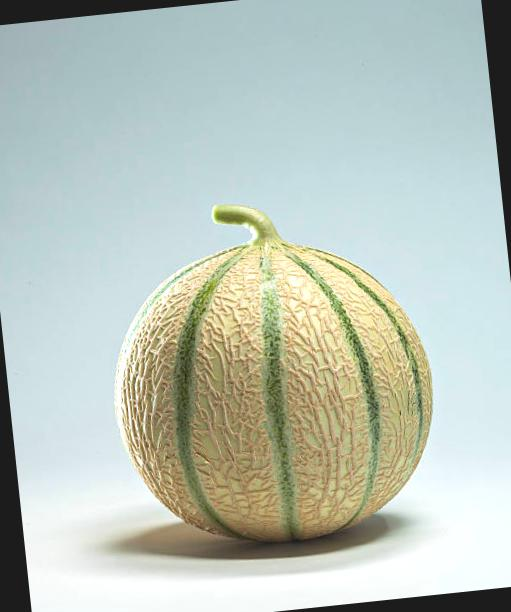Melon Ripe: (94, 185, 447, 562)
